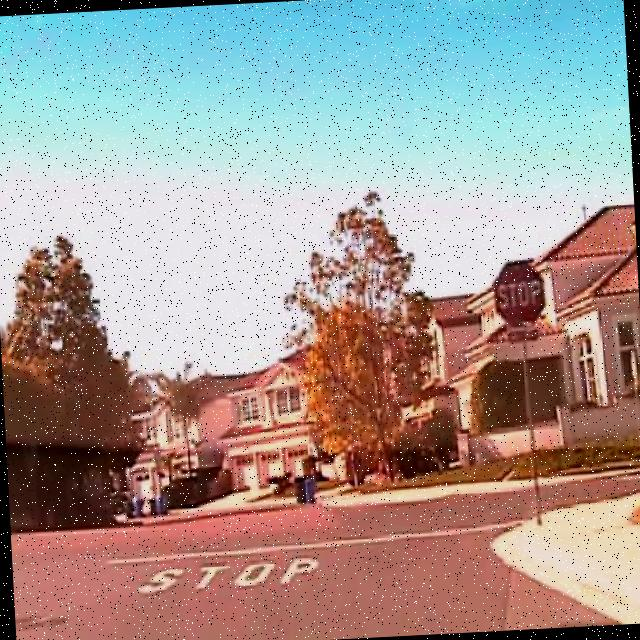Stop: (493, 262, 548, 328)
